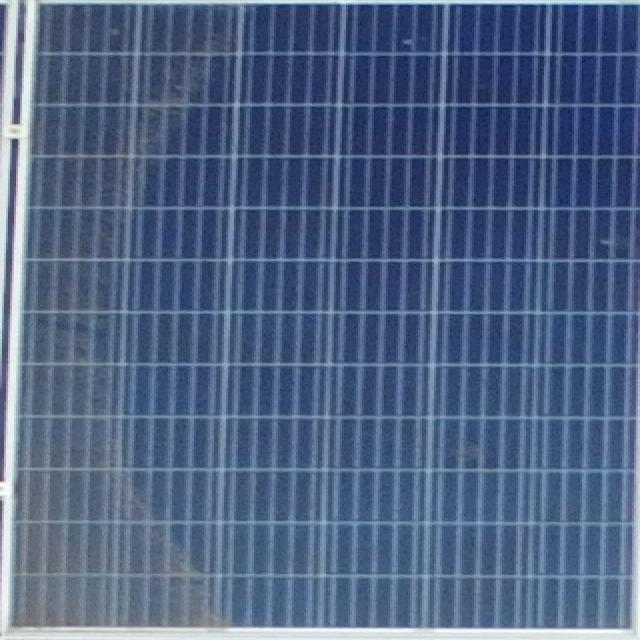Dust: (9, 1, 271, 633)
bird-droppings: (587, 234, 638, 252), (395, 31, 427, 56)
